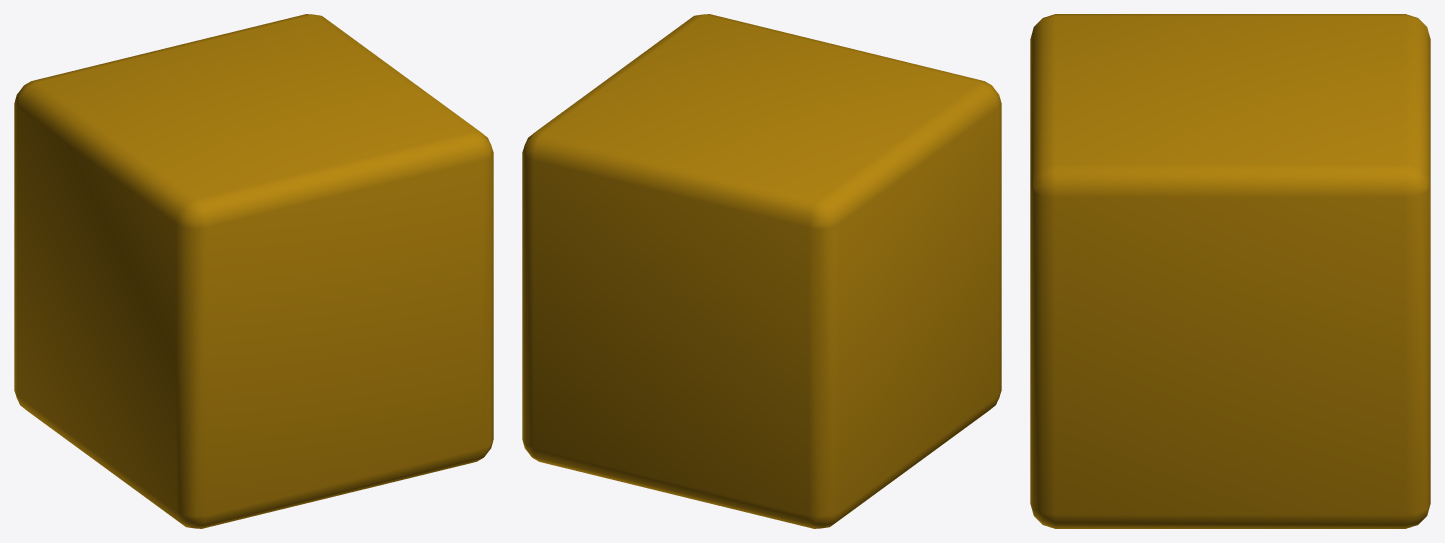
Rendered from Crate_1.fbx.
3 renders of one model, left to right at view 1: azimuth 30°, elevation 25°; view 2: azimuth 150°, elevation 25°; view 3: azimuth 270°, elevation 25°, orthographic. The views are drawn at different scales.
Parts seen in each view (by area): view 1: Crate_01_snaps002:Crate_01_snaps002; view 2: Crate_01_snaps002:Crate_01_snaps002; view 3: Crate_01_snaps002:Crate_01_snaps002.
Boxes of the visible parts, x1,y1,x2,y2 form: Crate_01_snaps002:Crate_01_snaps002: (14,14,493,528); Crate_01_snaps002:Crate_01_snaps002: (522,14,1001,528); Crate_01_snaps002:Crate_01_snaps002: (1030,14,1430,528).
Size of the model in its own units: 1 by 1 by 1.
